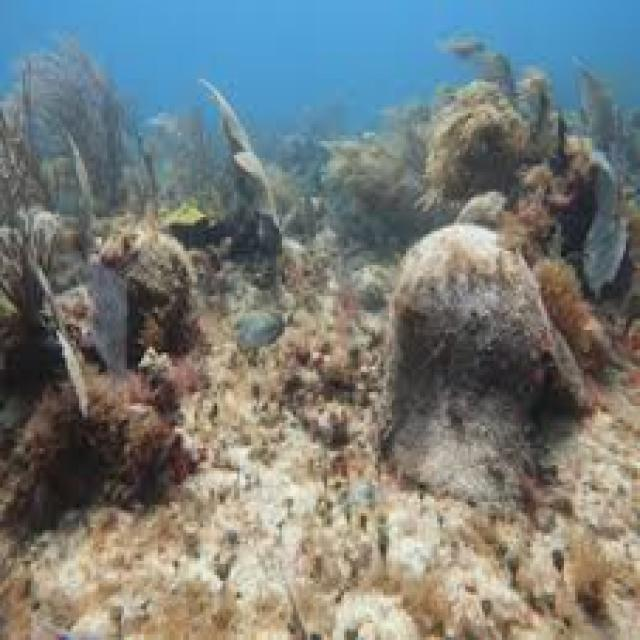Dead Coral: (377, 218, 615, 530), (431, 39, 603, 243)
